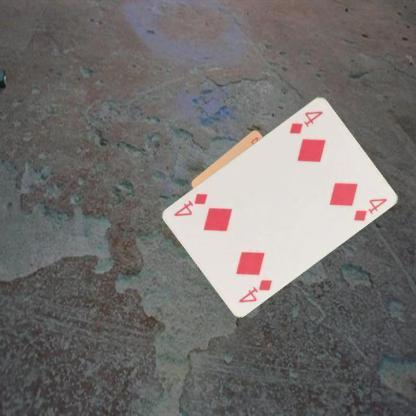4d: (236, 274, 274, 304), (286, 108, 324, 136)
